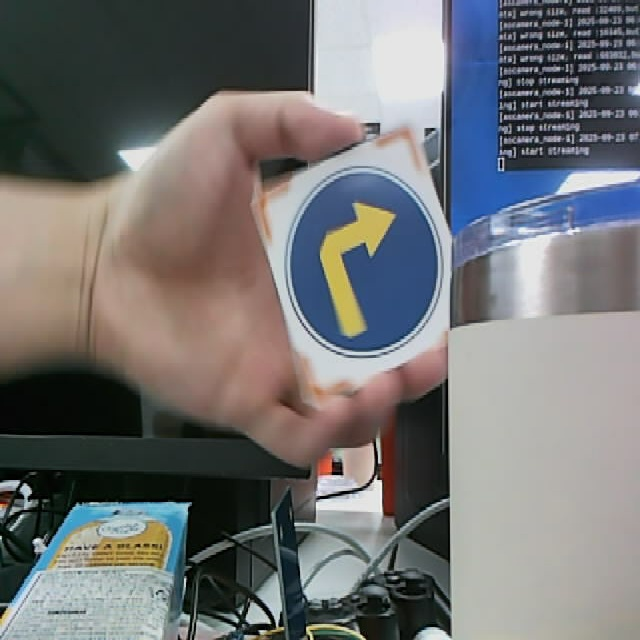right: (247, 125, 453, 404)
